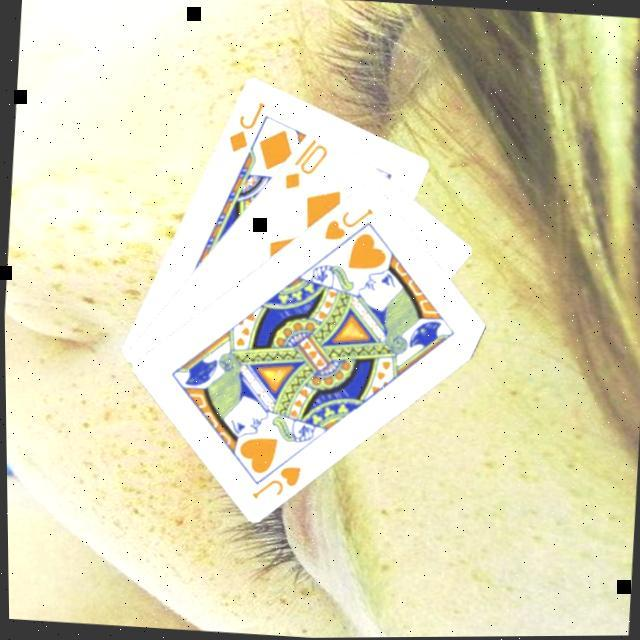10D: (281, 132, 334, 193)
JD: (224, 94, 271, 155)
JH: (247, 457, 305, 503), (321, 199, 379, 244)
